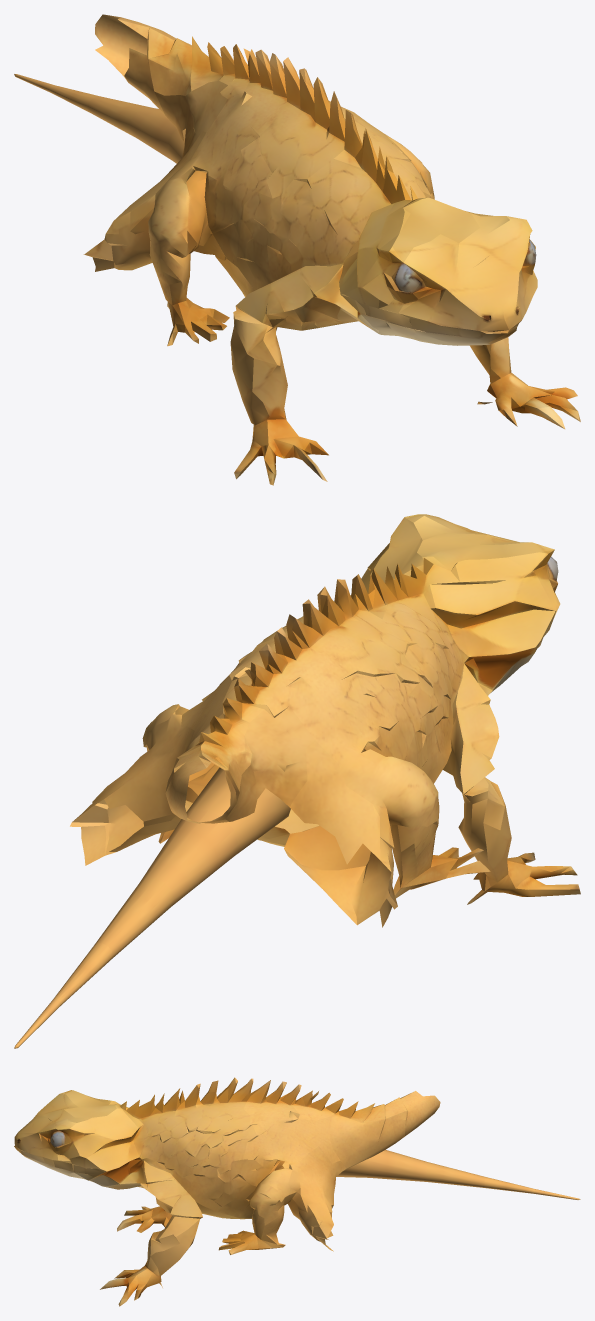
File: lizard.glb
The picture shows the model from 3 angles, top to bottom: view 1: azimuth 30°, elevation 25°; view 2: azimuth 150°, elevation 25°; view 3: azimuth 270°, elevation 25°; orthographic projection. The views are drawn at different scales.
Parts seen in each view (by area): view 1: model; view 2: model; view 3: model.
Part boxes in pixels (x1,y1,x2,y2): model: (14,14,580,485); model: (14,514,580,1048); model: (14,1077,580,1306).
Bounding box in the file's own units: 0.3131 × 0.28 × 0.7875.
Materials: 1 (1 with a texture image).
